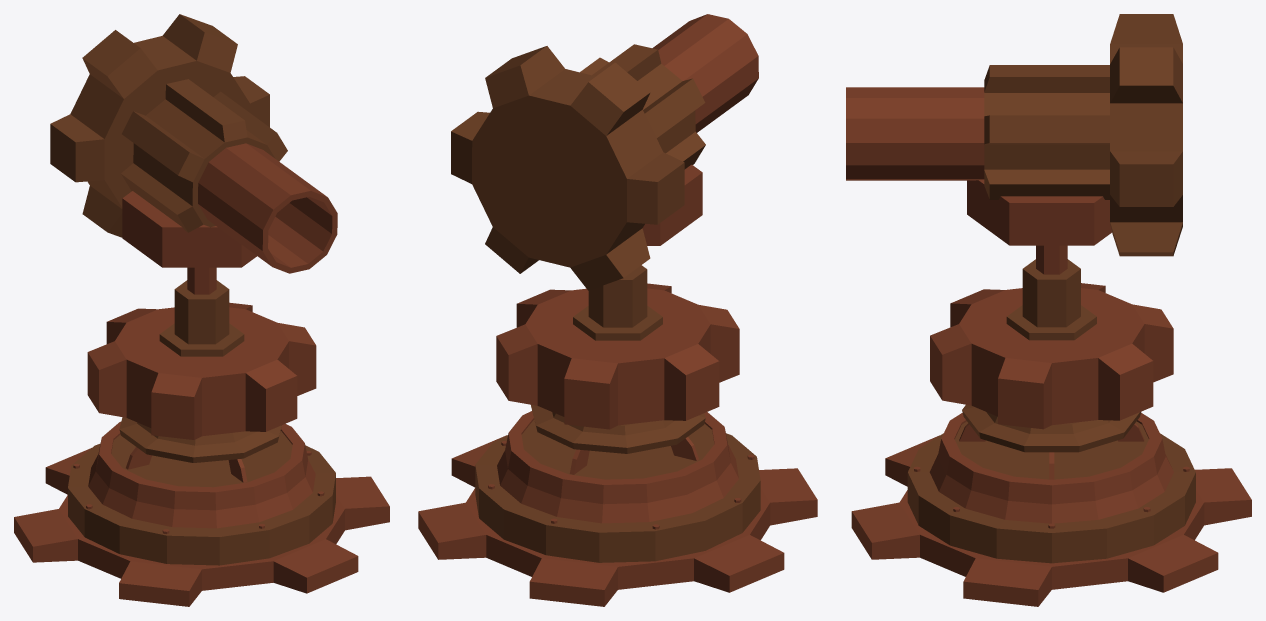
The model's file is Cannon_1.glb.
The picture shows the model from 3 angles, left to right: view 1: azimuth 30°, elevation 25°; view 2: azimuth 150°, elevation 25°; view 3: azimuth 270°, elevation 25°; orthographic projection. The views are drawn at different scales.
Visible parts, largest first — view 1: Cannon_1_Gun, Cannon_1_Base, Cannon_1_Mid; view 2: Cannon_1_Gun, Cannon_1_Base, Cannon_1_Mid; view 3: Cannon_1_Gun, Cannon_1_Base, Cannon_1_Mid.
Part boxes in pixels (x1,y1,x2,y2): Cannon_1_Gun: [50, 14, 337, 273]; Cannon_1_Base: [14, 421, 389, 606]; Cannon_1_Mid: [87, 267, 316, 462]; Cannon_1_Gun: [451, 14, 758, 290]; Cannon_1_Base: [418, 411, 817, 606]; Cannon_1_Mid: [496, 265, 739, 453]; Cannon_1_Gun: [846, 14, 1182, 256]; Cannon_1_Base: [851, 412, 1251, 606]; Cannon_1_Mid: [930, 245, 1173, 452].
Size of the model in its own units: 1.38 by 1.88 by 1.4.
